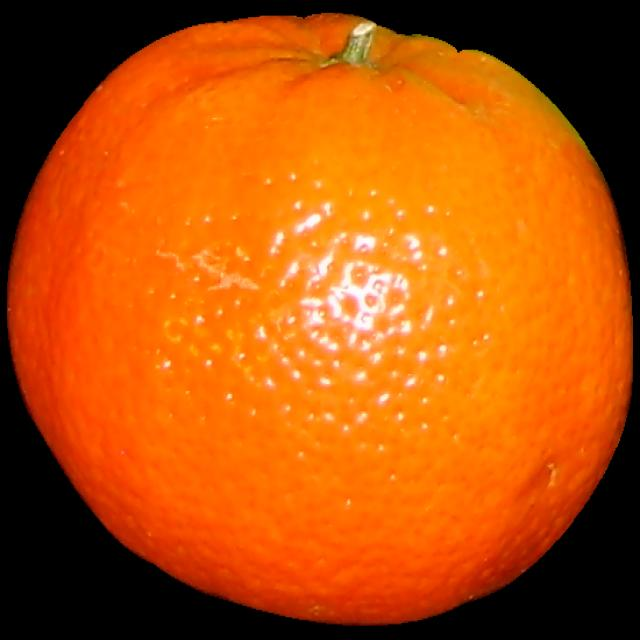orange: (8, 7, 634, 624)
